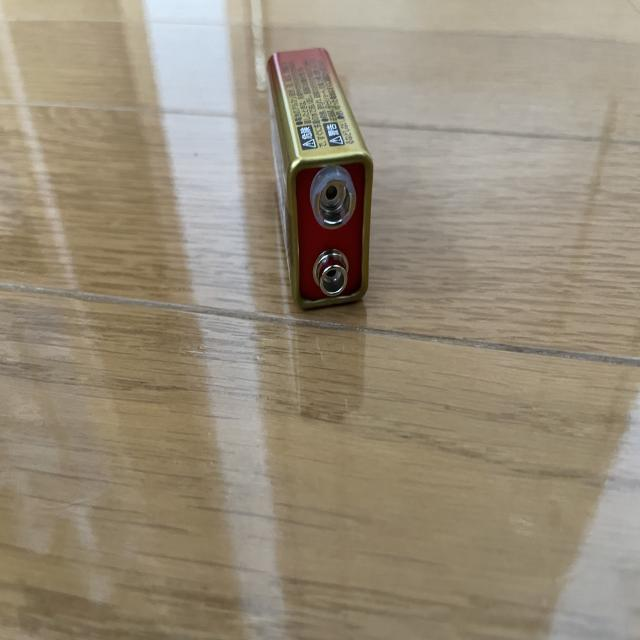9V: (266, 47, 373, 311)
